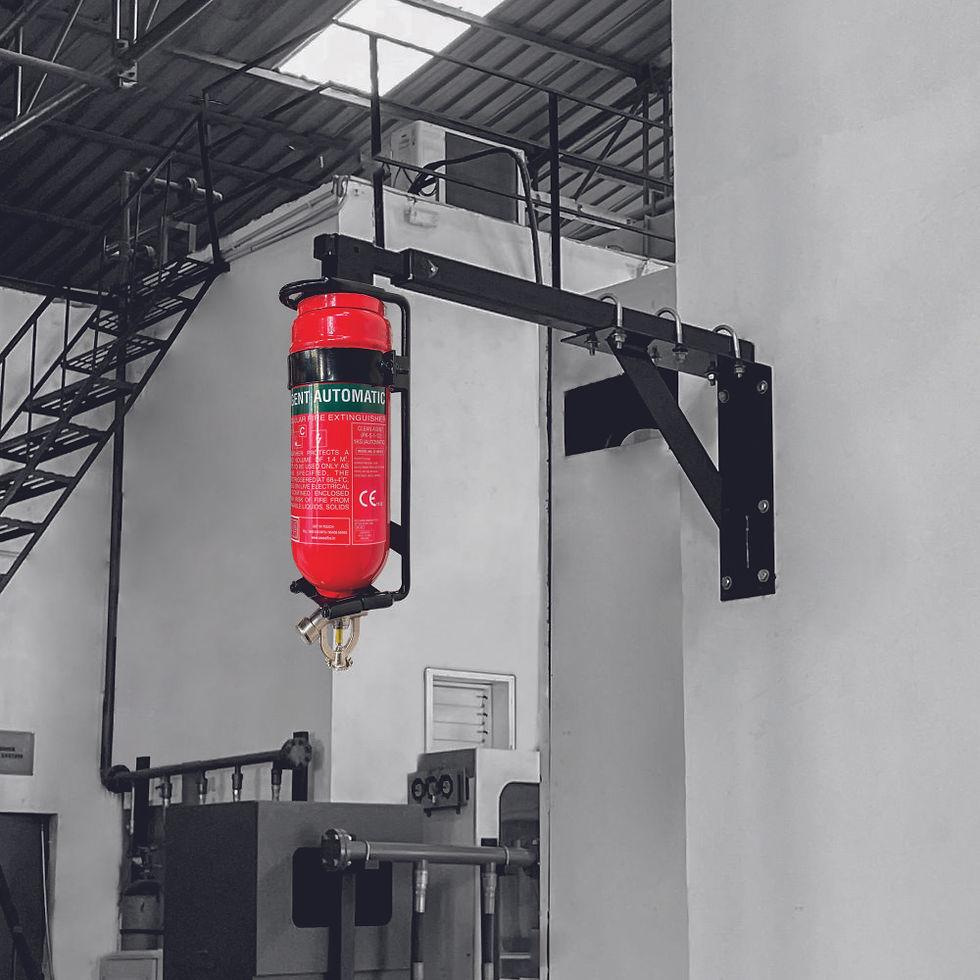wall-mounted: (240, 229, 496, 699)
